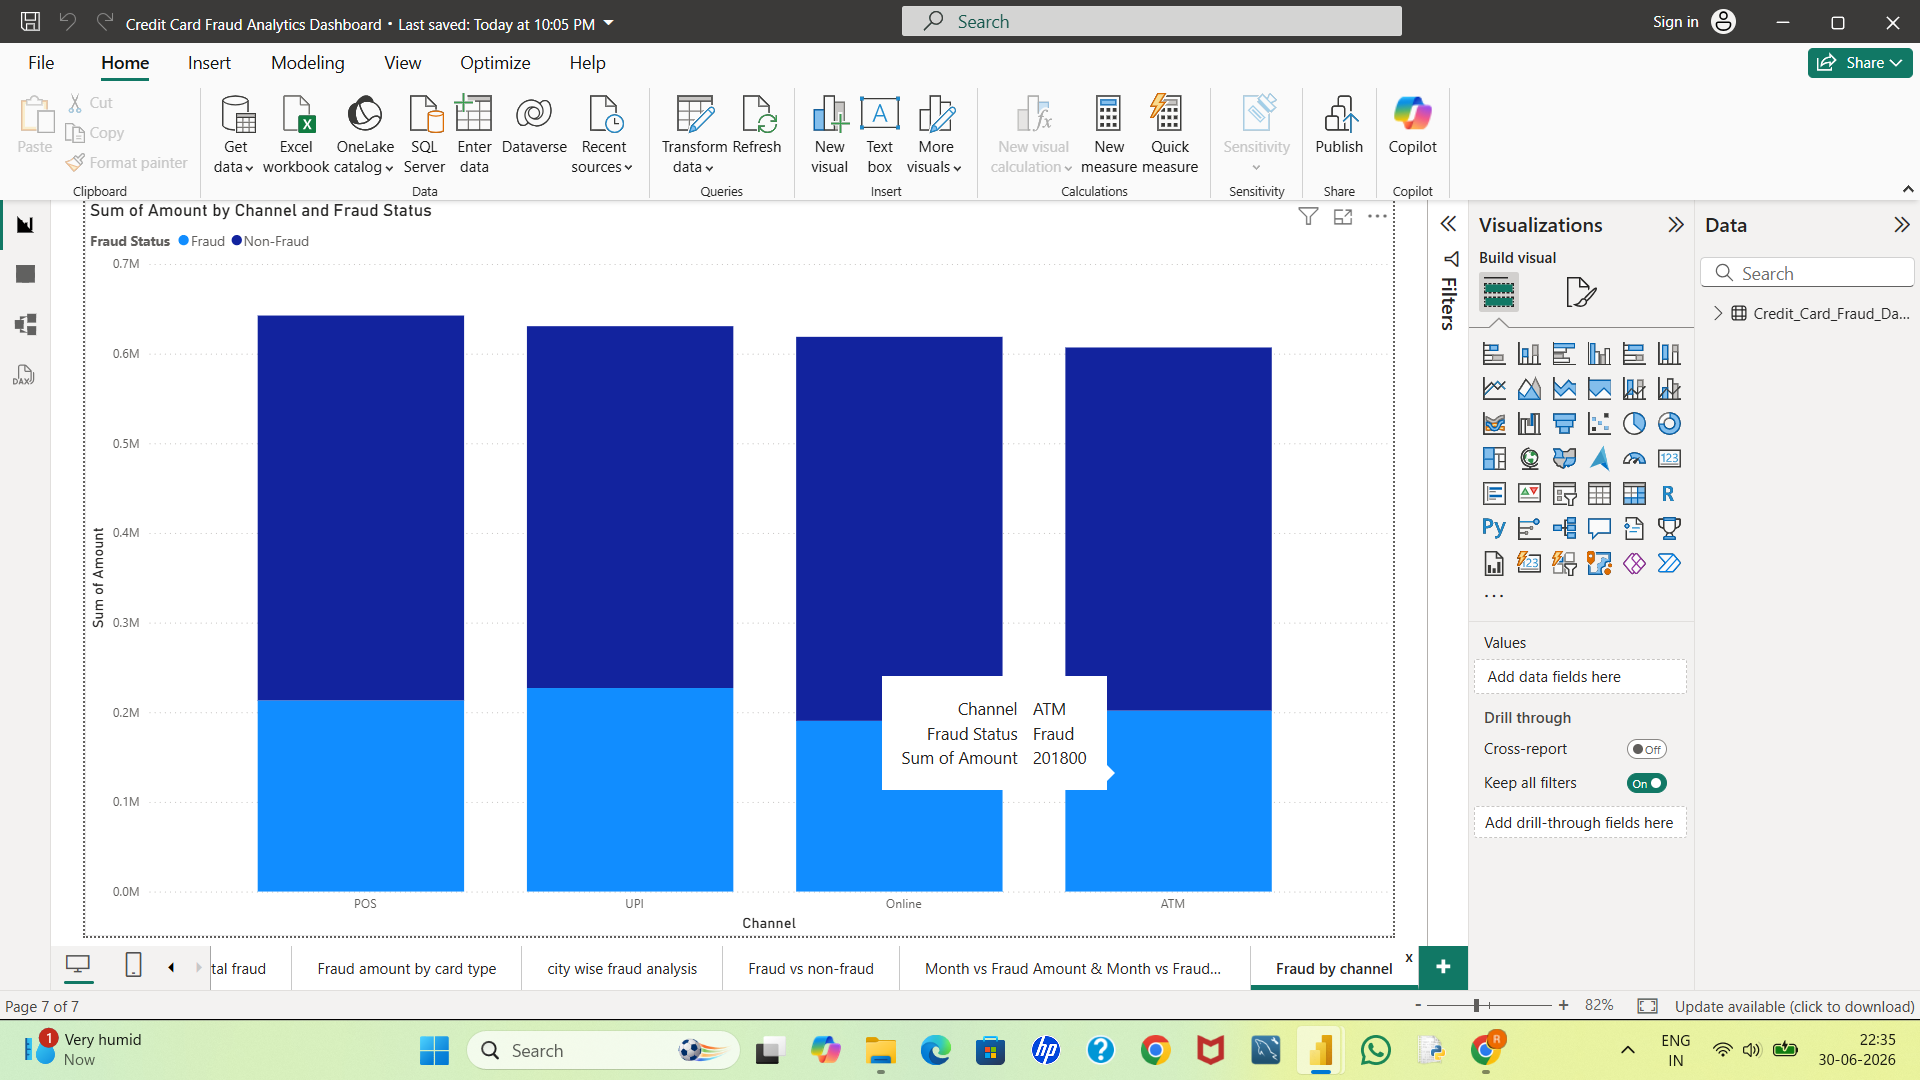

What the dashboard file says about the page in this screenshot:
{"tool":"powerbi","page":{"name":"Fraud by channel","canvas":[1280,720],"ordinal":6},"visuals":[{"type":"columnChart","fields":{"Category":["Credit_Card_Fraud_Dataset_100Rows.Channel"],"Y":["Sum(Credit_Card_Fraud_Dataset_100Rows.Amount)"],"Series":["Credit_Card_Fraud_Dataset_100Rows.Fraud Status"]},"box":[0,0,1280.3,720.2],"z":2}]}

Visuals, with their boxes on the page's 1280x720 design canvas (x1, y1, x2, y2). These are canvas units, not pixel positions in the 1920x1080 screenshot, which may show the page scaled, cropped or inside an application window:
columnChart - Credit_Card_Fraud_Dataset_100Rows.Channel x Sum(Credit_Card_Fraud_Dataset_100Rows.Amount): crop(0, 0, 1280, 720)
